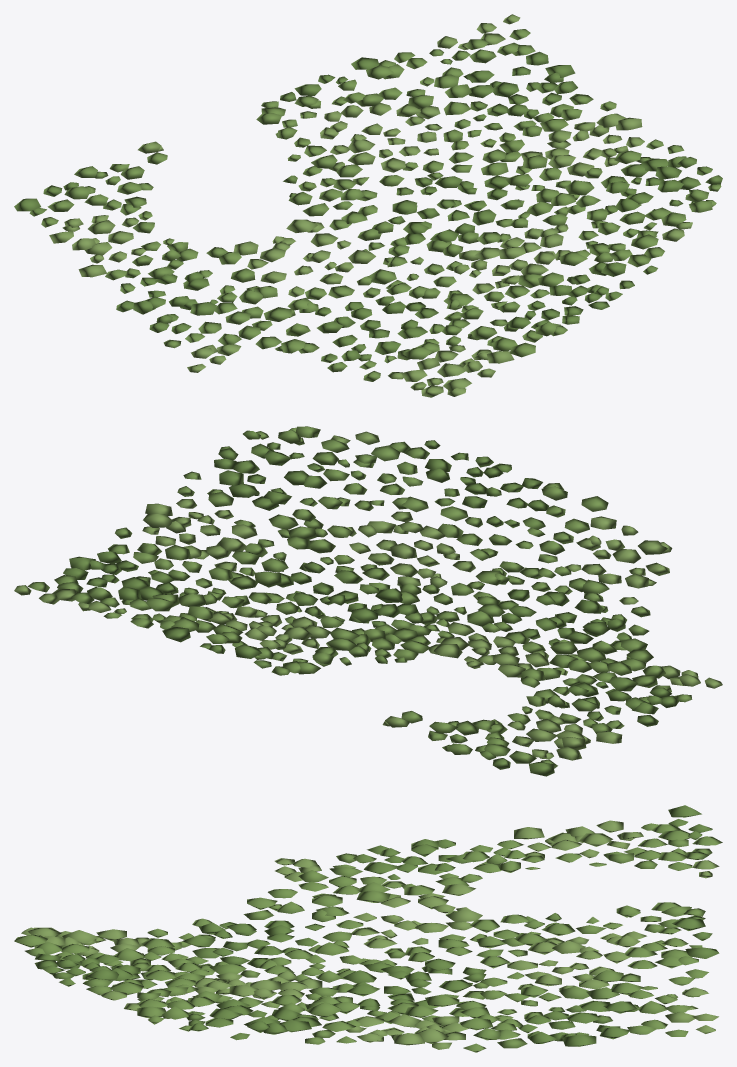
Rendered from canopy-1-1-1.glb.
3 views of the same model, one above another, from view 1: azimuth 30°, elevation 25°; view 2: azimuth 150°, elevation 25°; view 3: azimuth 270°, elevation 25° (orthographic). The views are drawn at different scales.
Size of the model in its own units: 515 by 102 by 518.
Materials: 1 (1 with a texture image).
